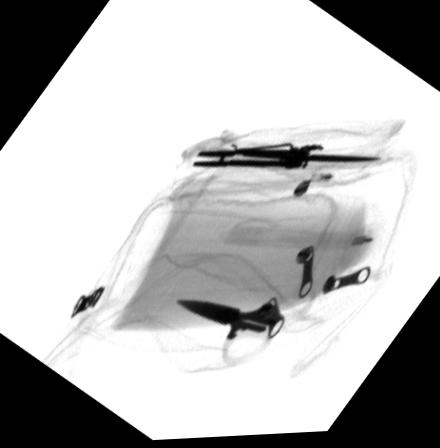Knife: (190, 145, 383, 172)
Scissors: (173, 291, 317, 368)
